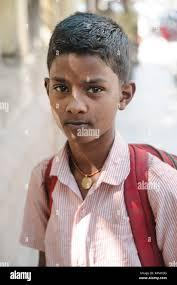Human: (23, 13, 177, 285)
